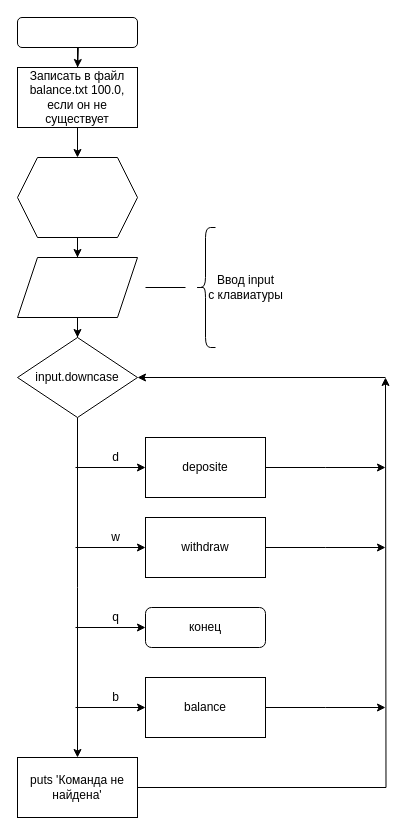
The diagram is 412 pixels wide and 835 high, and some of its shapes have lost their labels. The box of each missing label's shape, as (x1, y1, x2, y2) in pixels:
input: (16, 256, 138, 318)
true: (16, 156, 138, 238)
начало: (16, 16, 138, 48)
